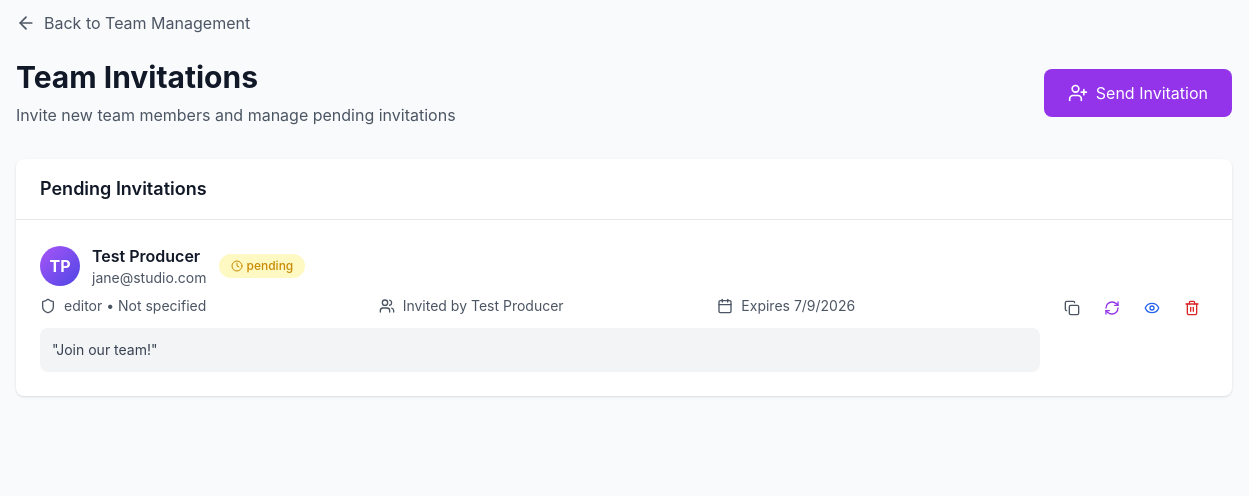
Test: TeamInvite › shows success message after resending invitation
Expected: the text "jane@studio.com" is shown, x1=92 y1=268 x2=206 y2=288
Click the button titled "Resend invitation" at [1112, 308], box x1=1096 y1=292 x2=1128 y2=324
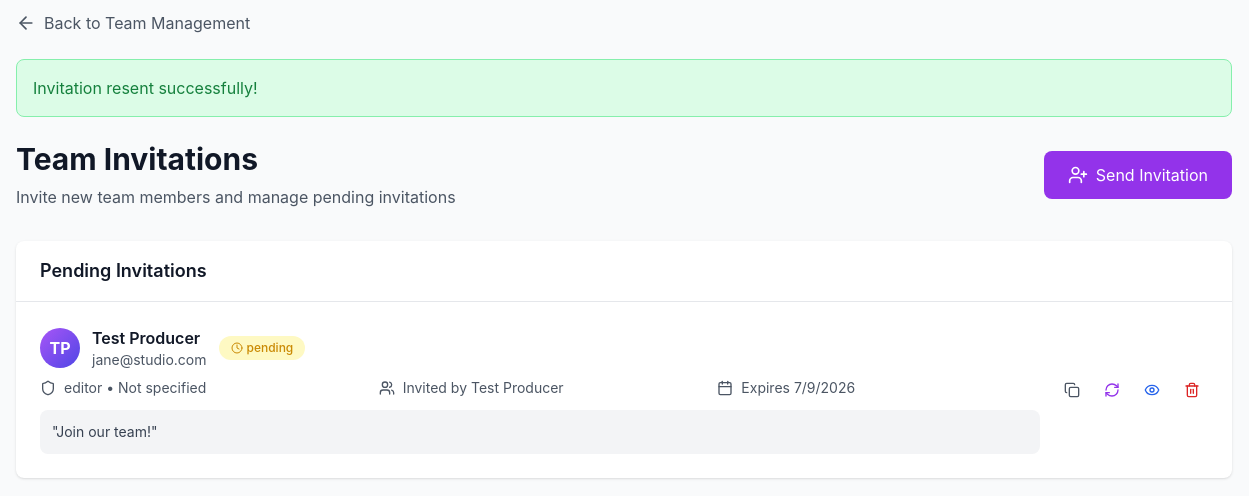
Result: the text "Invitation resent successfully!" is shown at x1=33 y1=78 x2=258 y2=98
